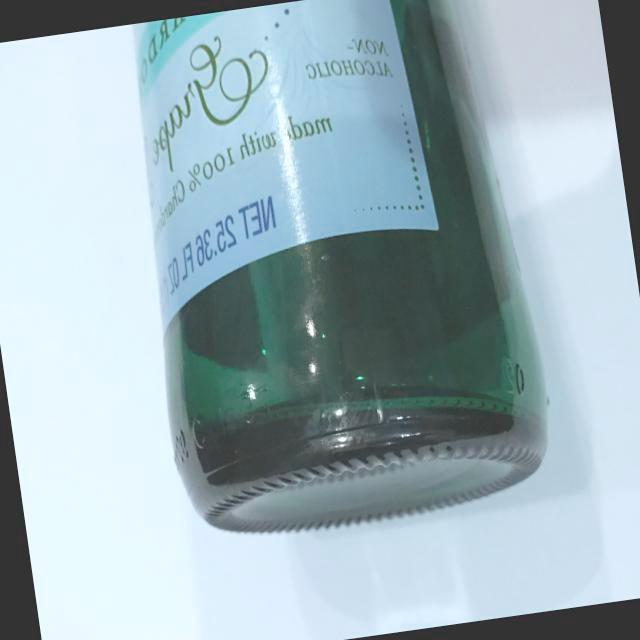glass: (97, 0, 570, 559)
